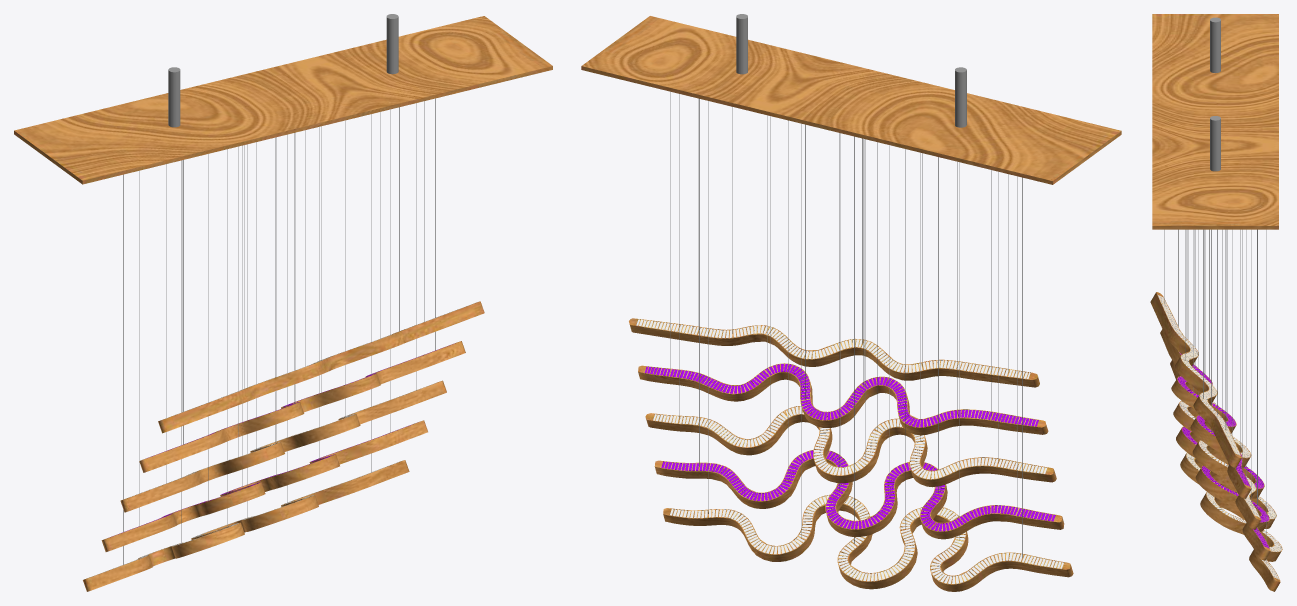
The model's file is aabijijiwan-field.glb.
The picture shows the model from 3 angles, left to right: view 1: azimuth 30°, elevation 25°; view 2: azimuth 150°, elevation 25°; view 3: azimuth 270°, elevation 25°; orthographic projection. The views are drawn at different scales.
Visible parts, largest first — view 1: AR_Sculpture; view 2: AR_Sculpture; view 3: AR_Sculpture.
Boxes of the visible parts, left/top/right/bottom form: AR_Sculpture: left=14, top=14, right=552, bottom=591; AR_Sculpture: left=581, top=14, right=1121, bottom=591; AR_Sculpture: left=1150, top=14, right=1282, bottom=591.
Bounding box in the file's own units: 7.72 × 8.03 × 2.04.
4 materials, 1 textured.
